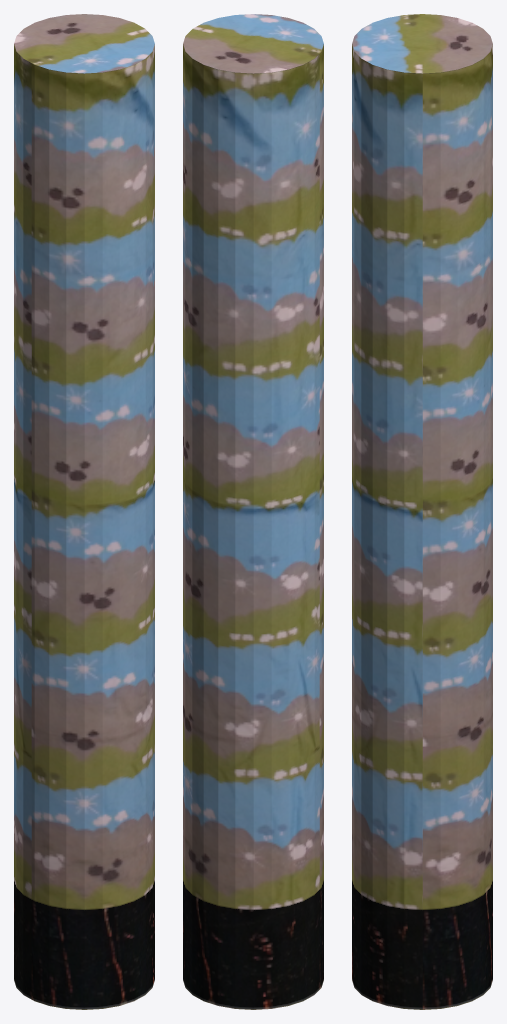
File: colored_pole.dae
The picture shows the model from 3 angles, left to right: view 1: azimuth 30°, elevation 25°; view 2: azimuth 150°, elevation 25°; view 3: azimuth 270°, elevation 25°; orthographic projection.
Parts seen in each view (by area): view 1: instance_0; view 2: instance_0; view 3: instance_0.
Boxes of the visible parts, <box> form: instance_0: <box>14,14,154,1009</box>; instance_0: <box>183,14,323,1009</box>; instance_0: <box>352,14,492,1009</box>.
Size of the model in its own units: 11.81 by 11.81 by 86.61.
Materials: 1 (1 with a texture image).
